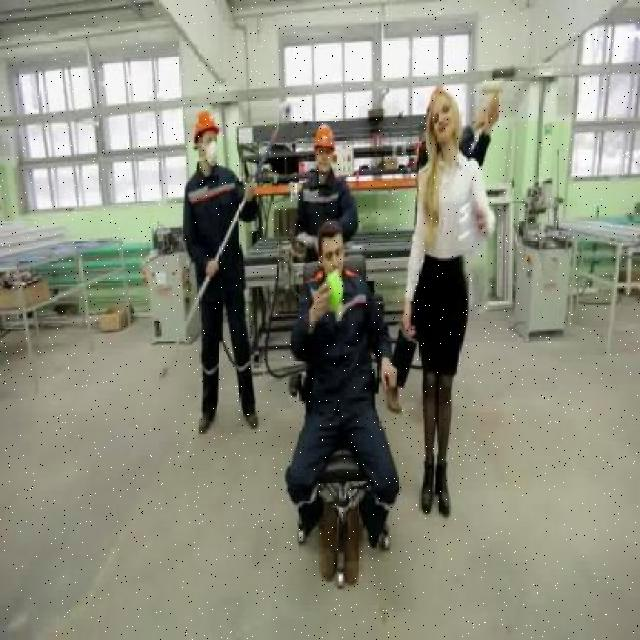Person: (282, 194, 404, 616), (165, 110, 261, 434)
